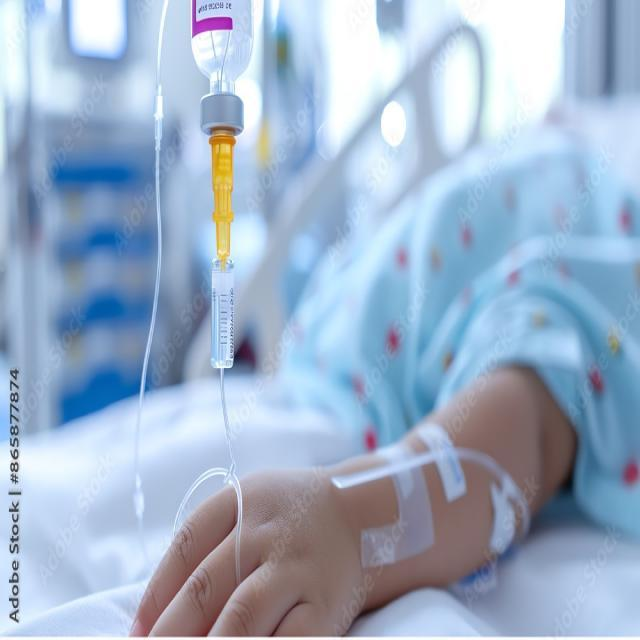bed: (1, 2, 638, 636)
